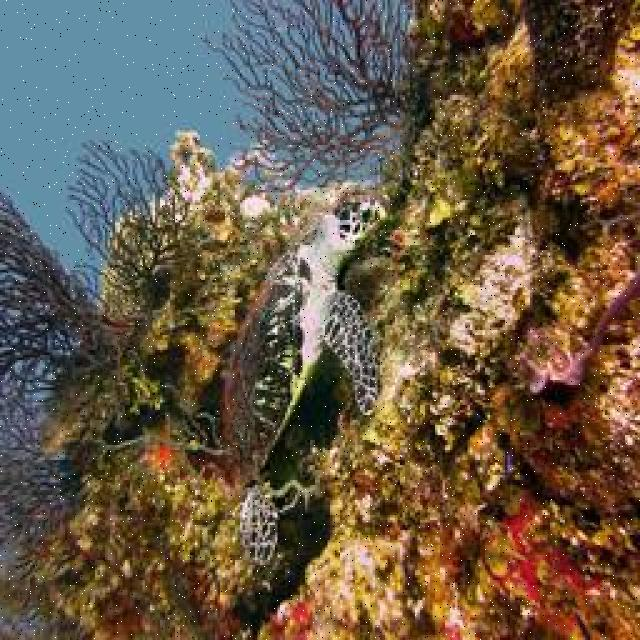fish: (220, 182, 395, 567)
reefs: (252, 0, 638, 638), (0, 139, 198, 454), (0, 415, 239, 638), (199, 0, 412, 190)
